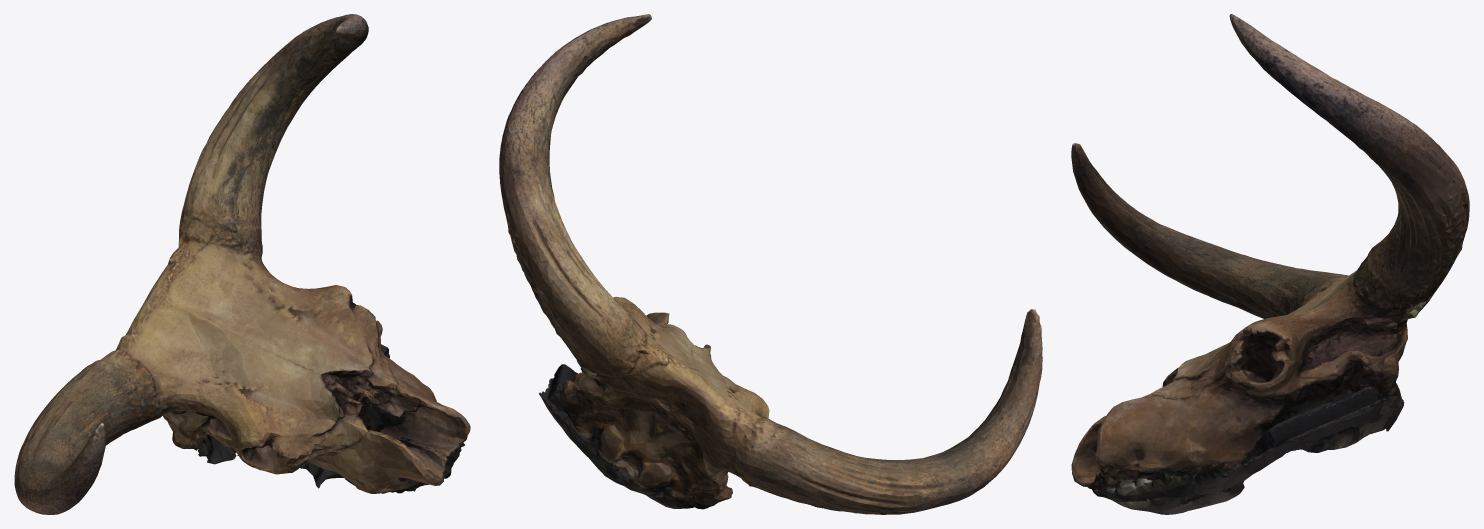
Rendered from auroch.dae.
3 views of the same model, side by side, from view 1: azimuth 30°, elevation 25°; view 2: azimuth 150°, elevation 25°; view 3: azimuth 270°, elevation 25° (orthographic). The views are drawn at different scales.
Visible parts, largest first — view 1: node; view 2: node; view 3: node.
Boxes of the visible parts, left/top/right/bottom form: node: left=14, top=14, right=470, bottom=514; node: left=499, top=14, right=1042, bottom=514; node: left=1071, top=14, right=1469, bottom=514.
Size of the model in its own units: 3.77 by 3.98 by 2.92.
1 material, 1 textured.
